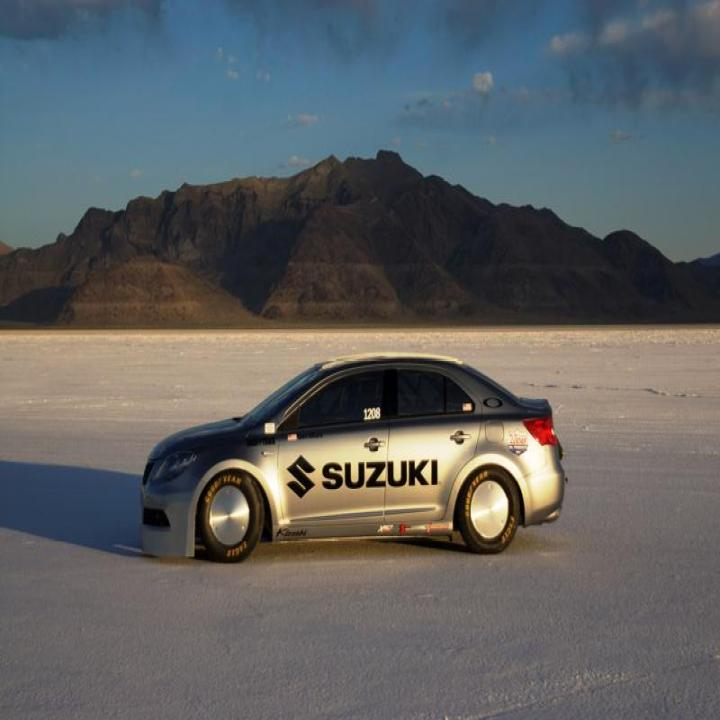car: (140, 352, 566, 563)
